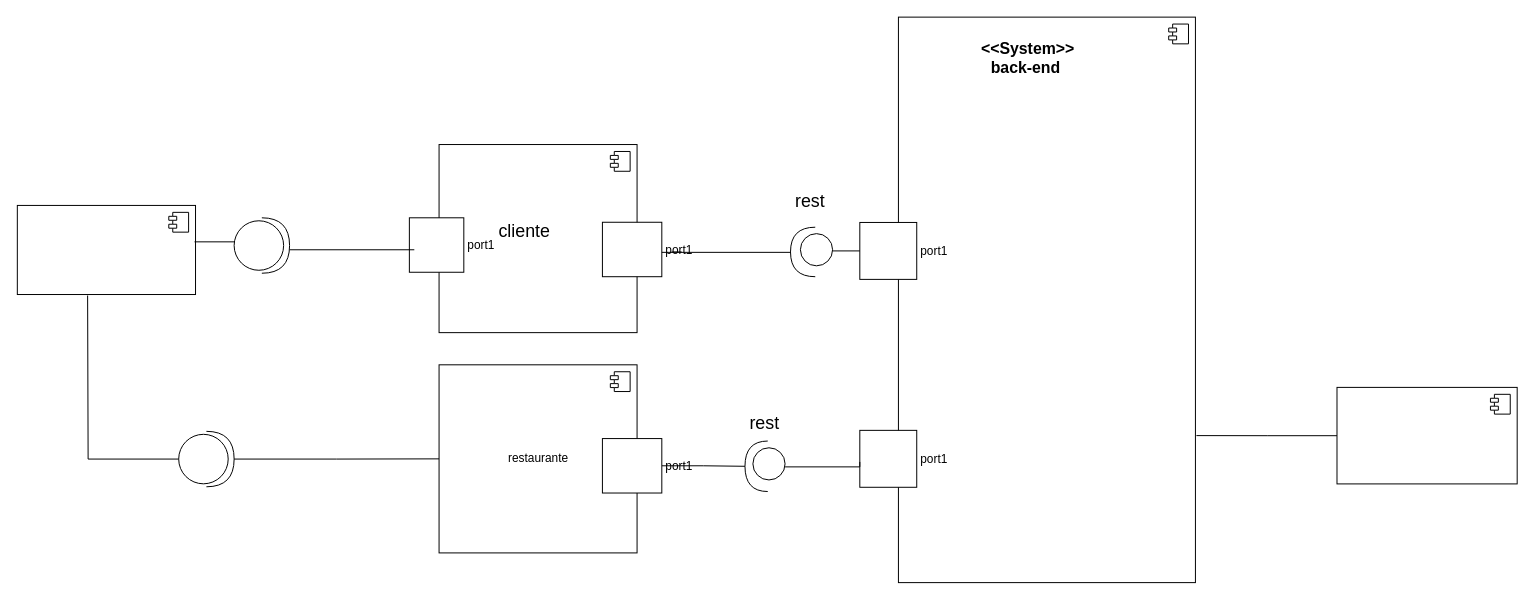
This 1535x601 diagram has some shape labels left out. Each missing label, with the centre of its shape:
<<API>> Autenticação Google: pixel 106 249
SGBD: pixel 1426 435
